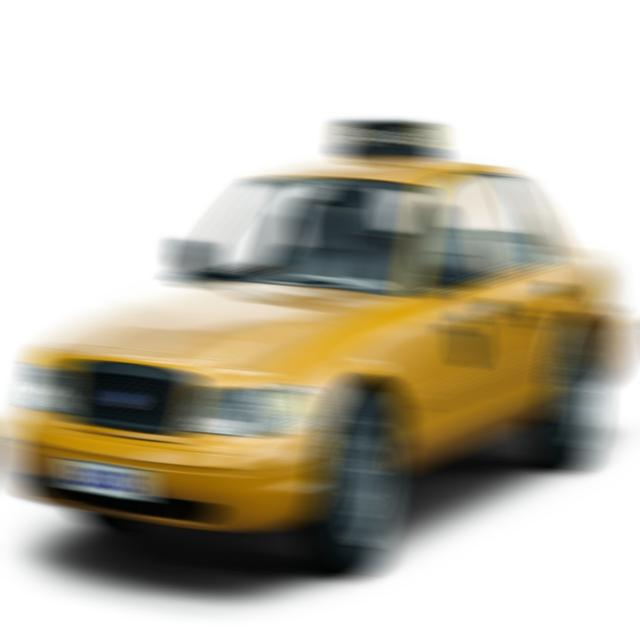Taxi: (7, 67, 640, 616)
